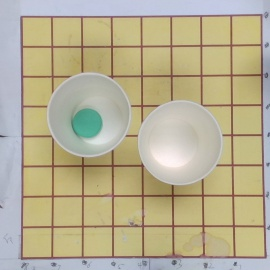cup: (138, 101, 224, 186)
cup_green: (46, 72, 132, 159)
